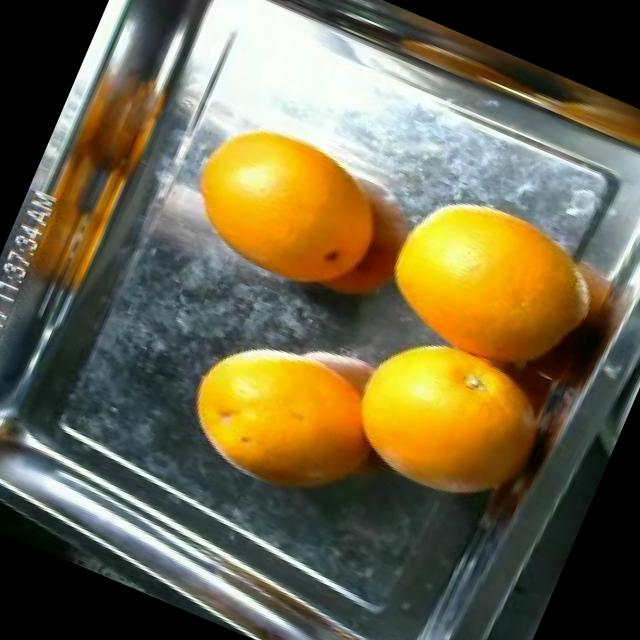Fruit: (153, 93, 394, 313), (158, 306, 388, 520)
